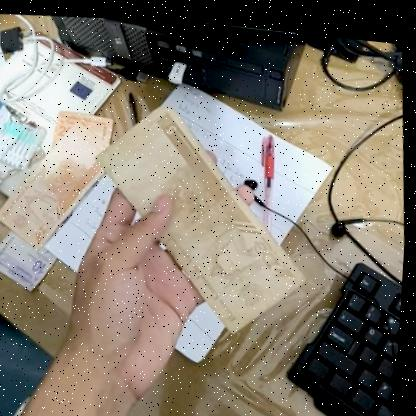five-back-vef: (79, 84, 322, 342)
twenty-back-vef: (0, 96, 126, 256)
